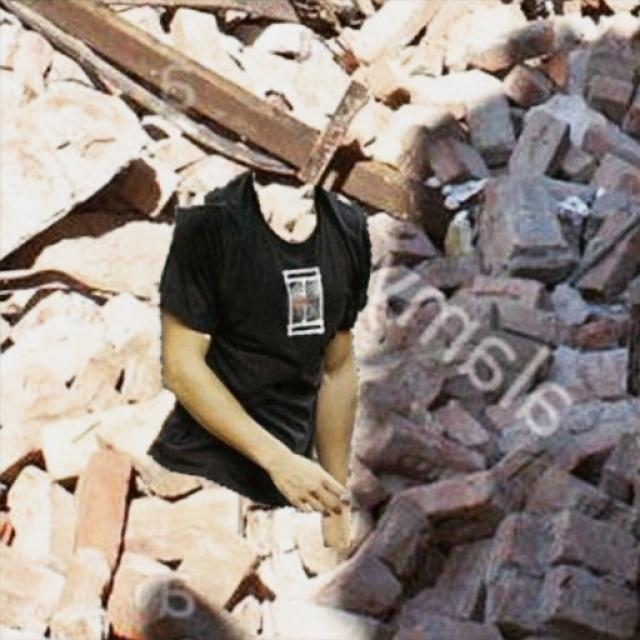Person in Rubble: (146, 173, 372, 546)
